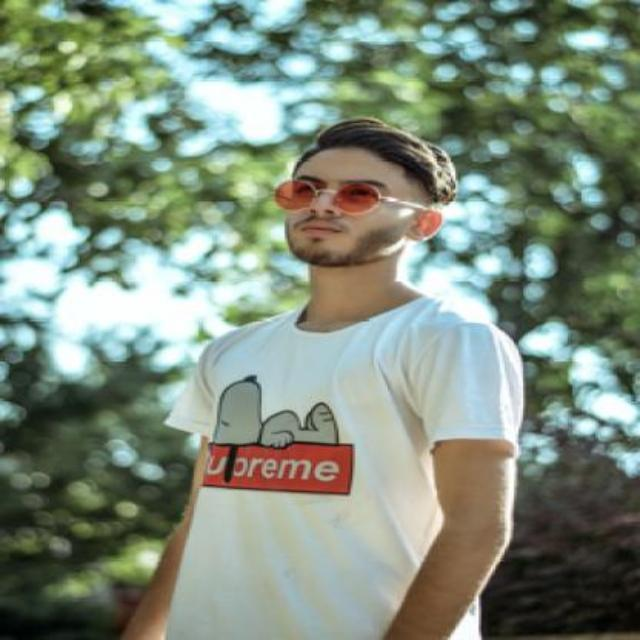glasses: (269, 180, 427, 214)
